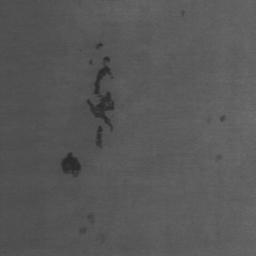Iron scale compression: (87, 57, 114, 133), (61, 152, 80, 176), (94, 126, 102, 148), (94, 42, 104, 51), (220, 115, 227, 124), (87, 57, 94, 65), (80, 227, 87, 235), (87, 213, 93, 222)
